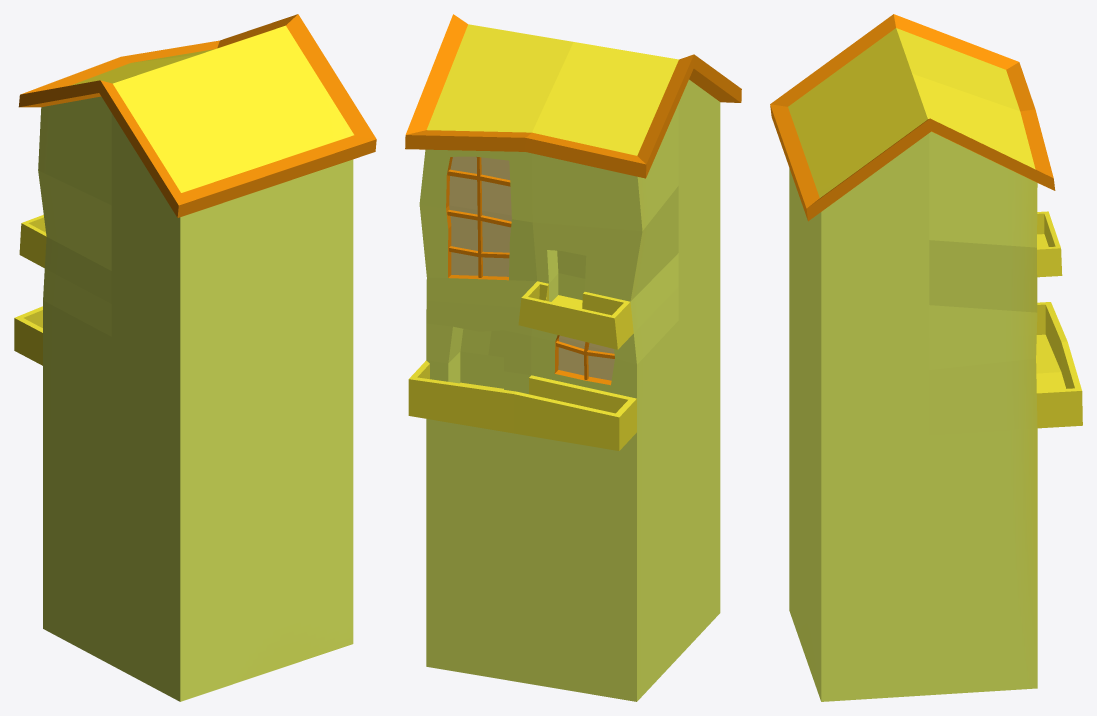
The model's file is edificio1.fbx.
3 views of the same model, side by side, from view 1: azimuth 30°, elevation 25°; view 2: azimuth 150°, elevation 25°; view 3: azimuth 270°, elevation 25° (orthographic). The views are drawn at different scales.
Parts seen in each view (by area): view 1: edificio1; view 2: edificio1; view 3: edificio1.
Part boxes in pixels (x1=…): edificio1: x1=14, y1=14, x2=376, y2=701; edificio1: x1=405, y1=14, x2=741, y2=701; edificio1: x1=770, y1=14, x2=1082, y2=701.
Size of the model in its own units: 3808 by 8594 by 4176.
